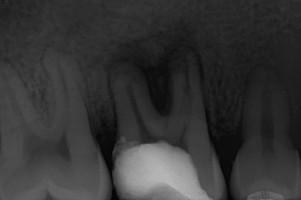Dental Caries: (104, 20, 199, 117)
